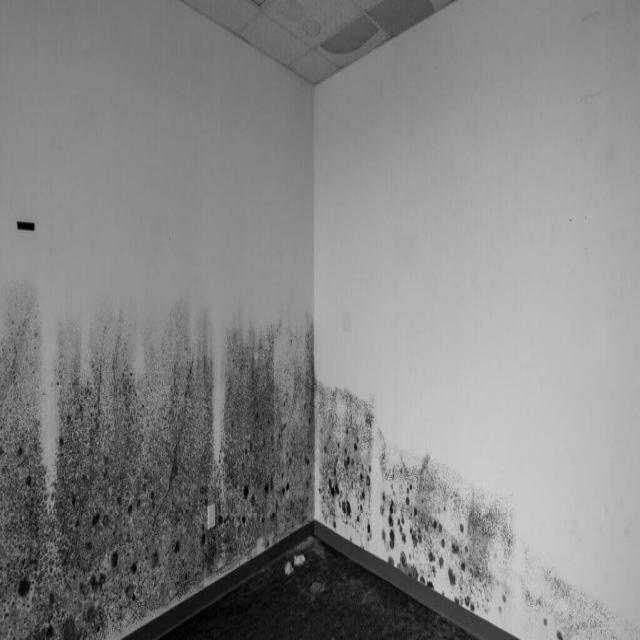stain marks: (0, 281, 640, 640)
